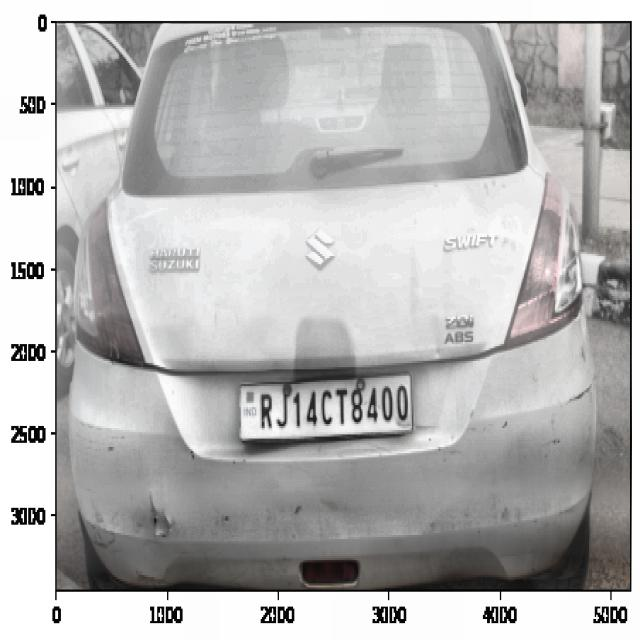license_plate: (253, 378, 414, 439)
